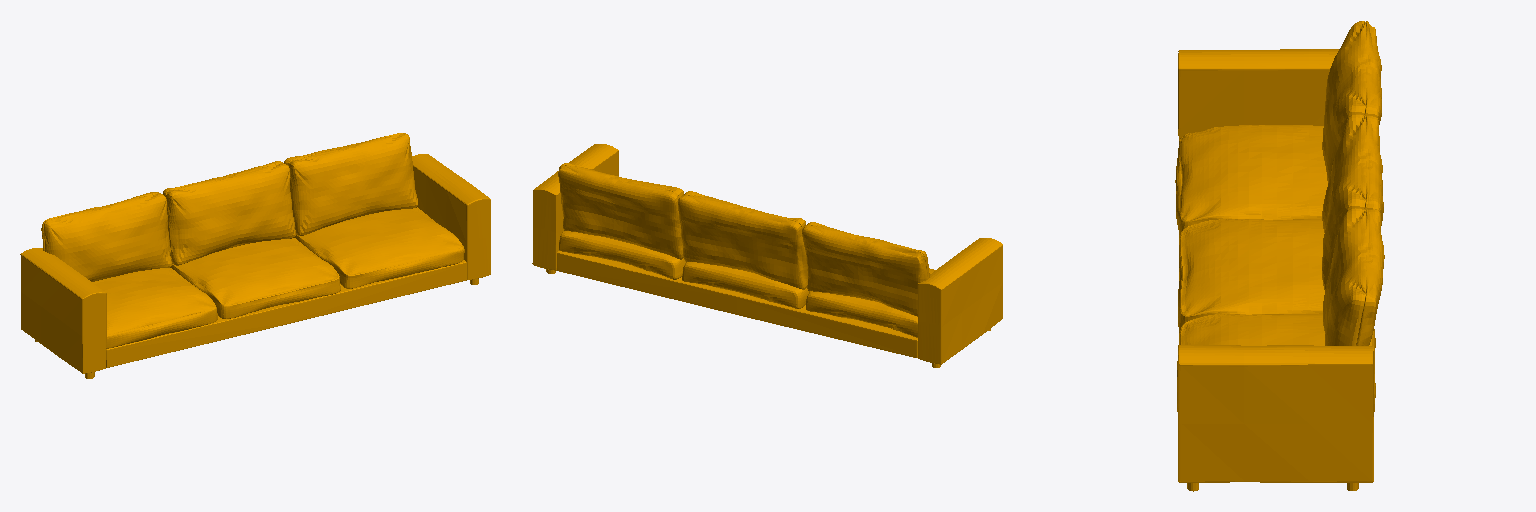
robot.urdf — sofa:
<?xml version="1.0"?>
<robot name="sofa">
    <link name="sit">
        <visual><geometry><mesh filename="../mesh/sofa/back_sit.obj"/></geometry></visual>
        <visual><geometry><mesh filename="../mesh/sofa/sit.obj"/></geometry></visual>
        <visual><geometry><mesh filename="../mesh/sofa/bottom.obj"/></geometry></visual>
        <visual><geometry><mesh filename="../mesh/sofa/left.obj"/></geometry></visual>
        <visual><geometry><mesh filename="../mesh/sofa/right.obj"/></geometry></visual>
        <visual><geometry><mesh filename="../mesh/sofa/legs.obj"/></geometry></visual>
        
        <collision><geometry><mesh filename="../mesh/sofa/back_sit.obj"/></geometry></collision>
        <collision><geometry><mesh filename="../mesh/sofa/sit.obj"/></geometry></collision>
        <collision><geometry><mesh filename="../mesh/sofa/bottom.obj"/></geometry></collision>
        <collision><geometry><mesh filename="../mesh/sofa/left.obj"/></geometry></collision>
        <collision><geometry><mesh filename="../mesh/sofa/right.obj"/></geometry></collision>
        <collision><geometry><mesh filename="../mesh/sofa/legs.obj"/></geometry></collision>

    </link>
</robot>

--- Facts derived from the render (not from the file) ---
The picture shows the robot from 3 angles, left to right: view 1: azimuth 30°, elevation 25°; view 2: azimuth 150°, elevation 25°; view 3: azimuth 270°, elevation 25°; orthographic projection.
Robot: sofa — 1 links, 0 joints (none); root link sit; default pose: every joint at zero.
Links seen in each view (by area): view 1: sit; view 2: sit; view 3: sit.
Boxes of the visible links, left/top/right/bottom form: sit: left=20, top=133, right=490, bottom=378; sit: left=532, top=144, right=1002, bottom=367; sit: left=1175, top=21, right=1384, bottom=491.
Size in the robot's own frame: 2.73 by 0.7658 by 0.7361 metres.
Meshes: 6 distinct files referenced, 6 mesh visuals loaded (6 OBJ).